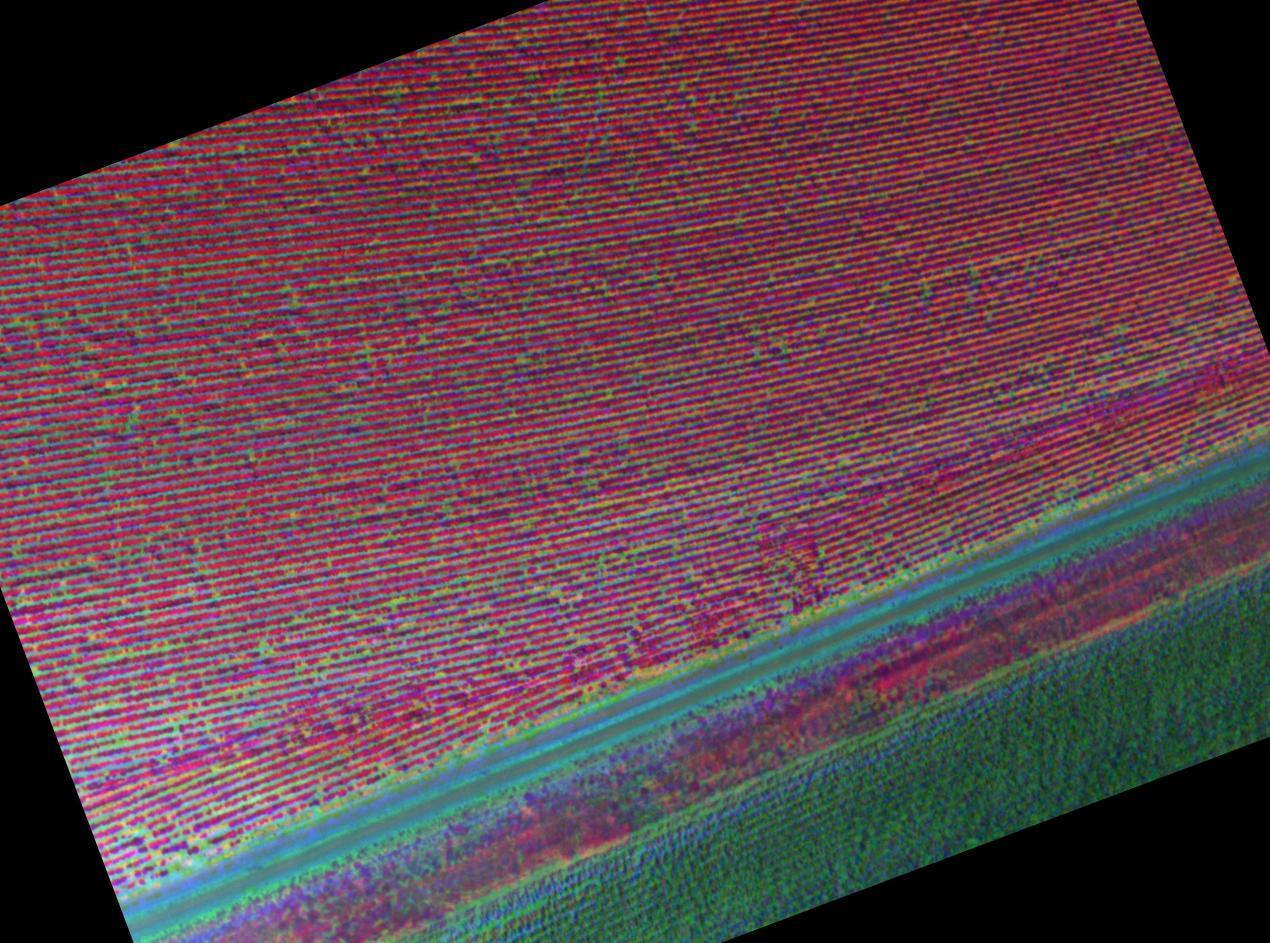dc: (213, 767, 219, 773), (262, 645, 268, 650), (250, 686, 256, 691), (117, 741, 122, 747), (392, 600, 397, 605)
